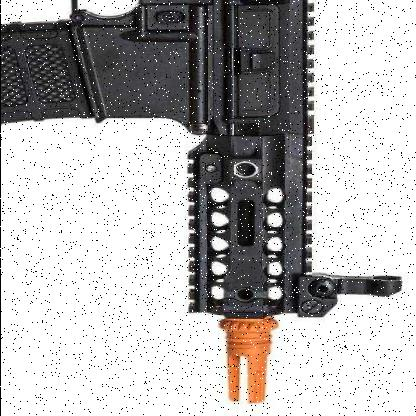rifle: (1, 0, 368, 412)
